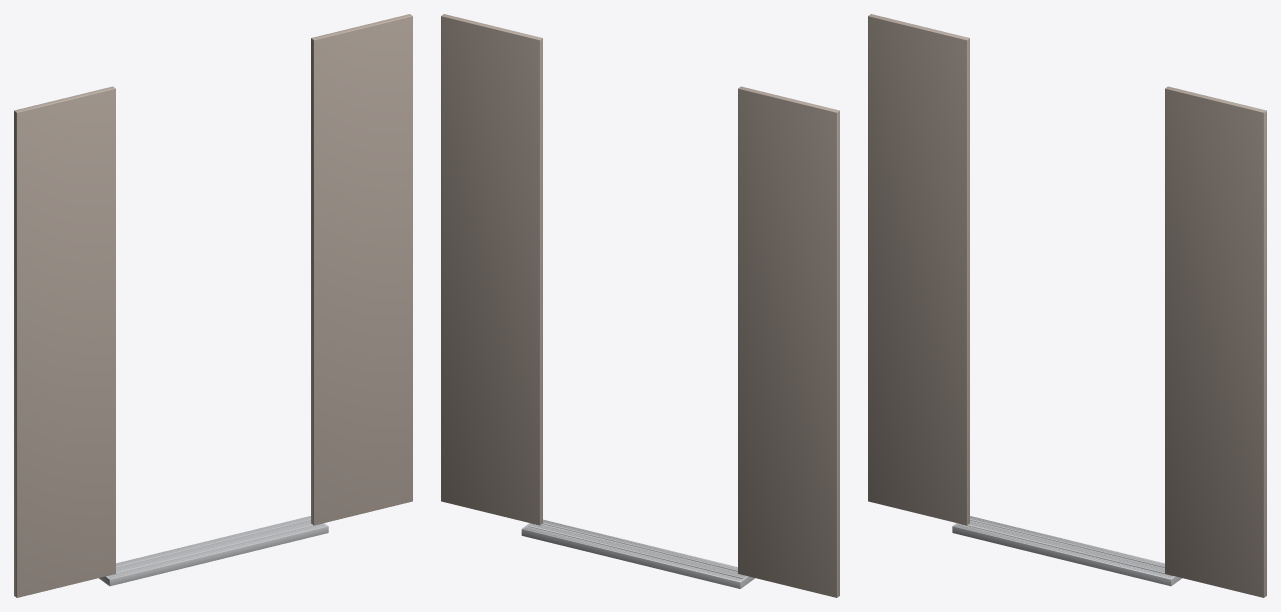
The model's file is cabin_door_TM028.glb.
The picture shows the model from 3 angles, left to right: view 1: azimuth 30°, elevation 25°; view 2: azimuth 150°, elevation 25°; view 3: azimuth 330°, elevation 25°; orthographic projection.
Visible parts, largest first — view 1: Car_Door_L, Car_Door_R, Door_Sill; view 2: Car_Door_L, Car_Door_R, Door_Sill; view 3: Car_Door_L, Car_Door_R, Door_Sill.
Part boxes in pixels (left/top/right/bottom): Car_Door_L: left=14, top=86, right=115, bottom=597; Car_Door_R: left=311, top=14, right=412, bottom=525; Door_Sill: left=98, top=516, right=328, bottom=586; Car_Door_L: left=738, top=86, right=839, bottom=597; Car_Door_R: left=441, top=14, right=542, bottom=525; Door_Sill: left=521, top=519, right=754, bottom=588; Car_Door_L: left=868, top=14, right=969, bottom=525; Car_Door_R: left=1165, top=86, right=1266, bottom=597; Door_Sill: left=952, top=516, right=1182, bottom=586.
Bounding box in the file's own units: 1.81 × 2.15 × 0.12.
